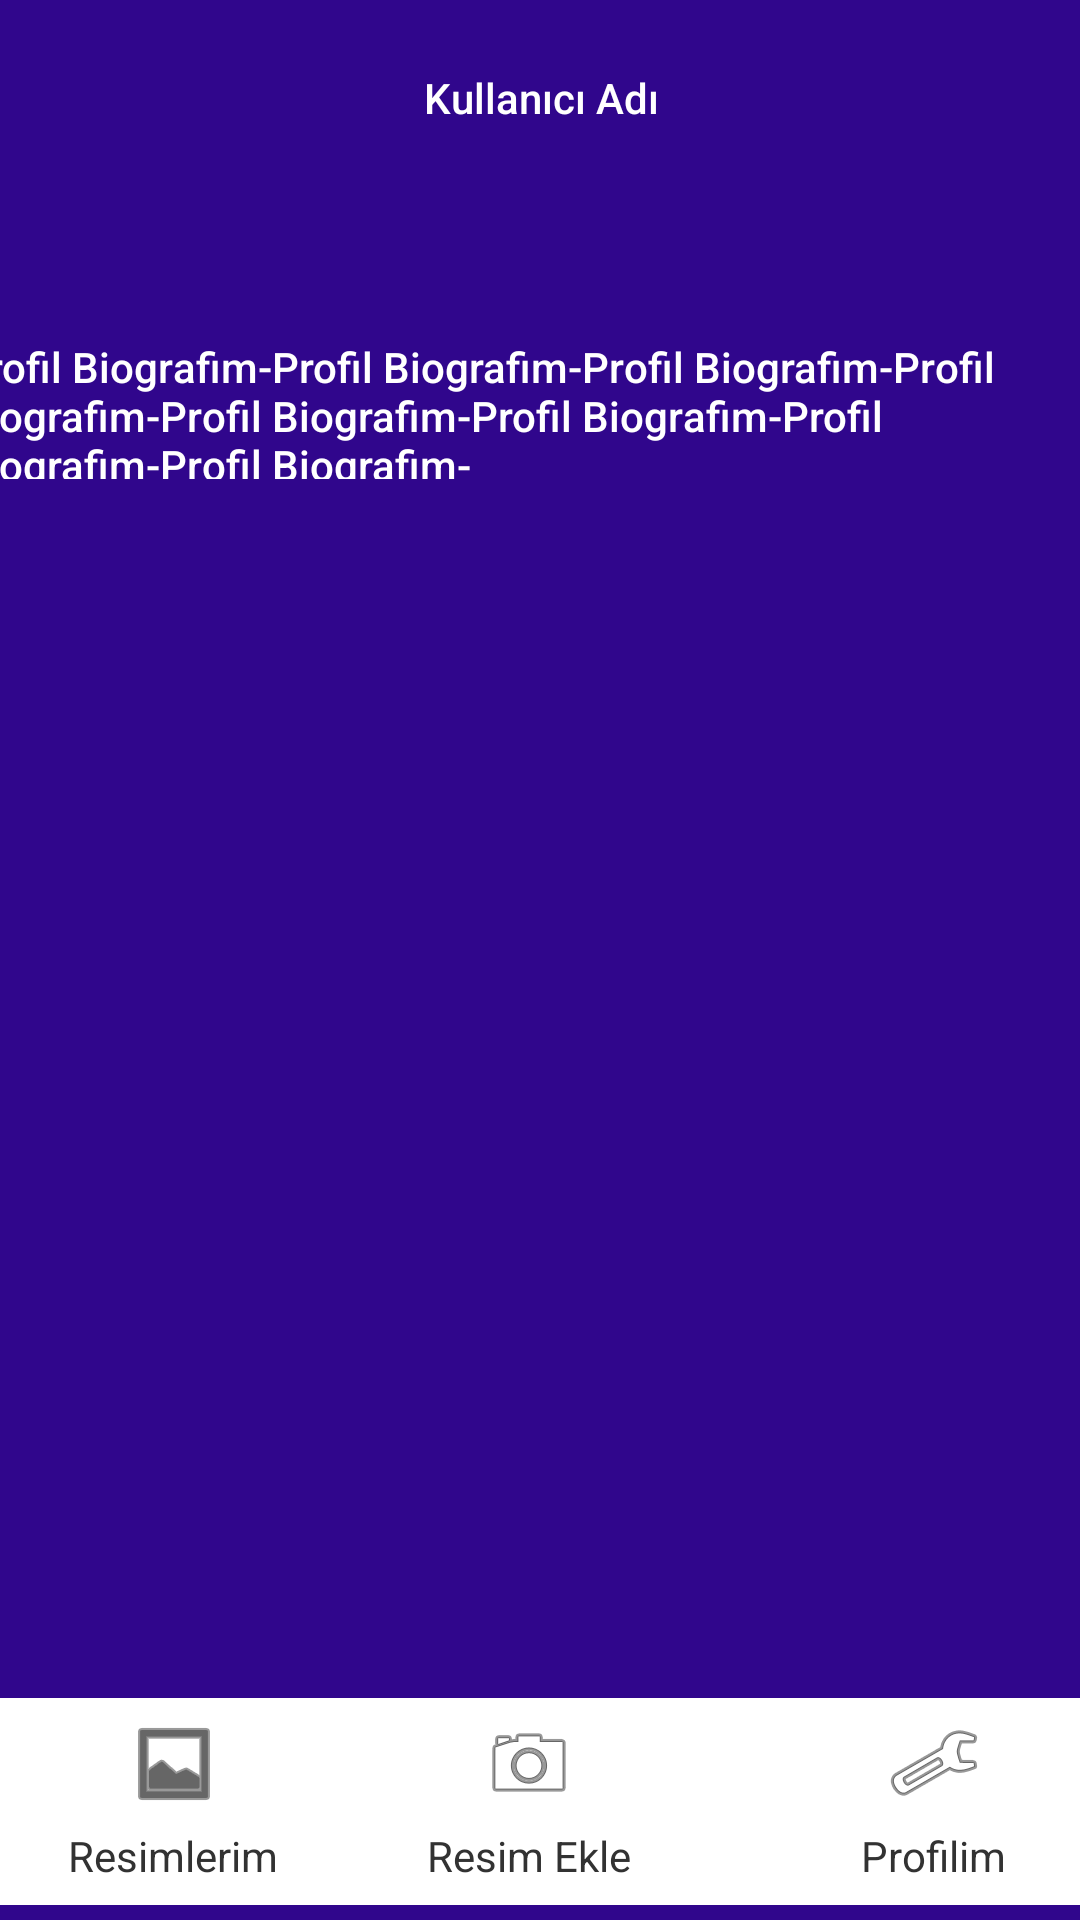

Screen size 1080 × 1920. Icon name, then its box in pixels as (x1, y1, x2, y2):
camera: (492, 1733, 566, 1792)
gallery: (138, 1728, 210, 1800)
manage: (891, 1730, 977, 1796)
